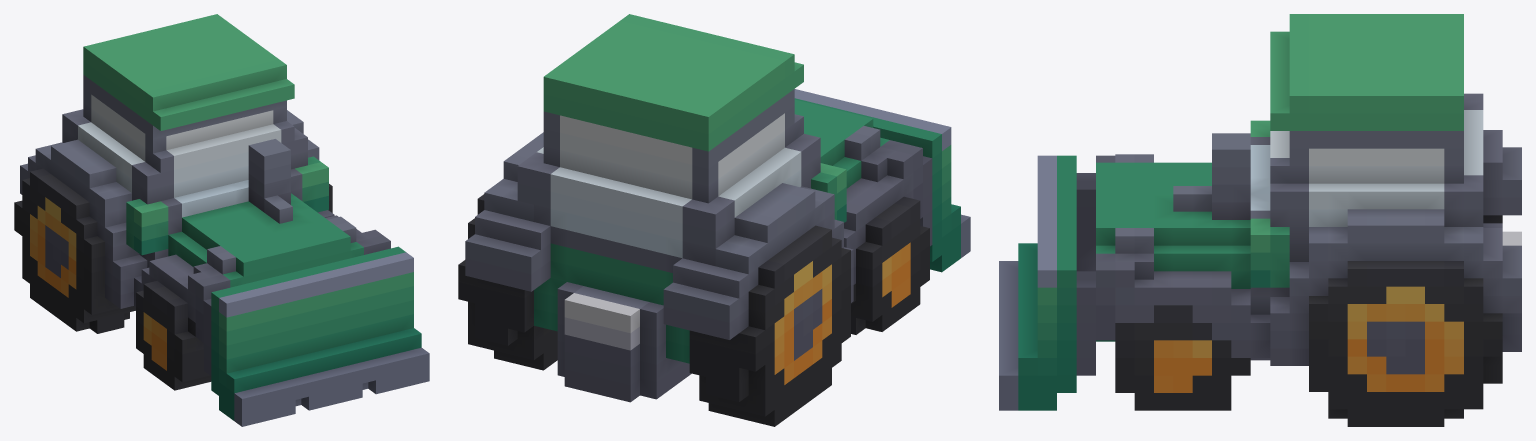
The model's file is digger.glb.
3 renders of one model, left to right at view 1: azimuth 30°, elevation 25°; view 2: azimuth 150°, elevation 25°; view 3: azimuth 270°, elevation 25°, orthographic. The views are drawn at different scales.
Visible parts, largest first — view 1: voxels; view 2: voxels; view 3: voxels.
Boxes of the visible parts, x1,y1,x2,y2 form: voxels: (14, 14, 429, 426); voxels: (458, 14, 970, 426); voxels: (999, 14, 1521, 426).
Size of the model in its own units: 1.7 by 1.61 by 2.55.
